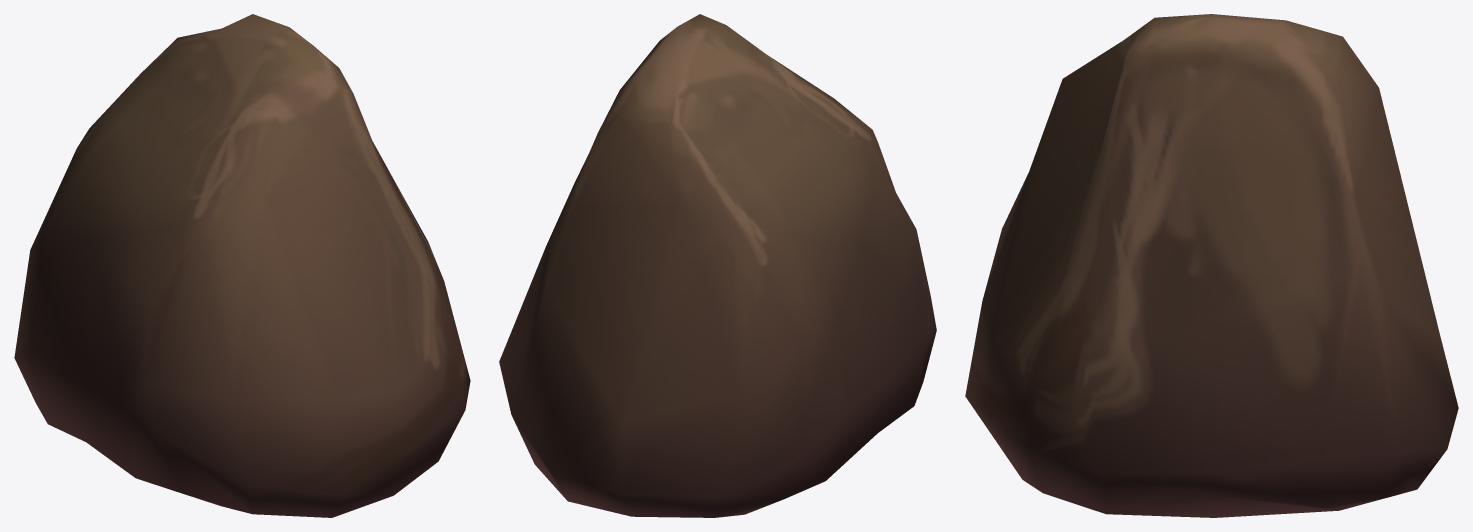
Rendered from Rock001.glb.
3 views of the same model, side by side, from view 1: azimuth 30°, elevation 25°; view 2: azimuth 150°, elevation 25°; view 3: azimuth 270°, elevation 25° (orthographic). The views are drawn at different scales.
Parts seen in each view (by area): view 1: Cube.002; view 2: Cube.002; view 3: Cube.002.
Part boxes in pixels (bbox=[...]): Cube.002: bbox=[14, 14, 470, 517]; Cube.002: bbox=[499, 14, 936, 517]; Cube.002: bbox=[965, 14, 1458, 517].
Bounding box in the file's own units: 0.2862 × 0.329 × 0.3025.
Materials: 1 (1 with a texture image).
